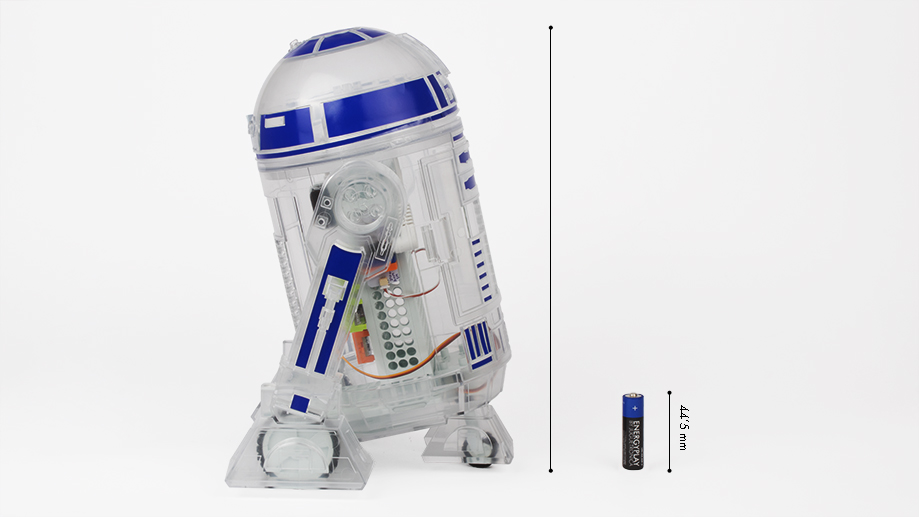r2d2: (235, 27, 518, 481)
